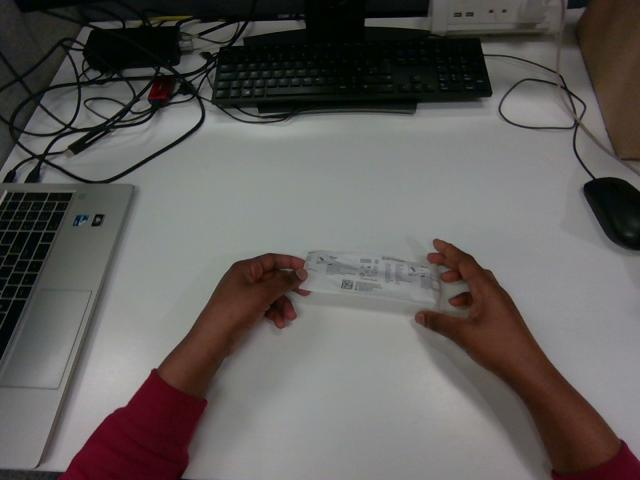syringe: (301, 251, 440, 308)
